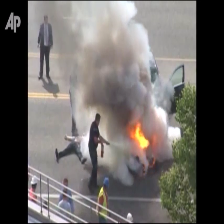fire_h: (131, 121, 149, 151)
fire_l: (151, 132, 157, 150)
